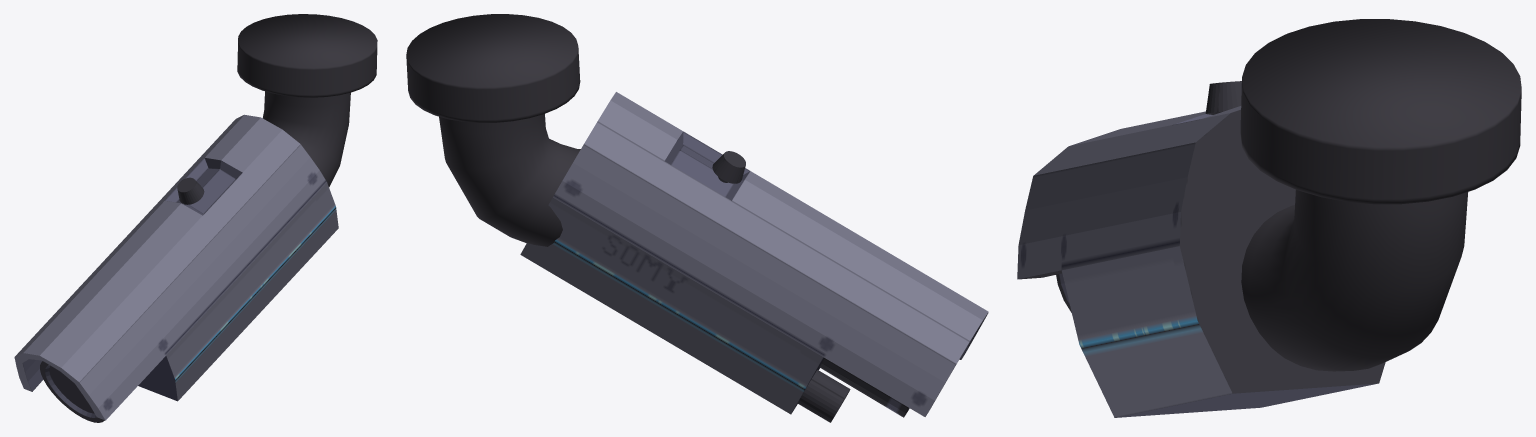
Rendered from Camera.fbx.
The picture shows the model from 3 angles, left to right: view 1: azimuth 30°, elevation 25°; view 2: azimuth 150°, elevation 25°; view 3: azimuth 270°, elevation 25°; orthographic projection. The views are drawn at different scales.
Parts seen in each view (by area): view 1: Cube.003, Cylinder.002; view 2: Cube.003, Cylinder.002; view 3: Cylinder.002, Cube.003.
Part boxes in pixels (left/top/right/bottom): Cube.003: left=14, top=114, right=338, bottom=422; Cylinder.002: left=235, top=14, right=377, bottom=187; Cube.003: left=520, top=92, right=988, bottom=422; Cylinder.002: left=406, top=14, right=580, bottom=246; Cylinder.002: left=1240, top=19, right=1521, bottom=371; Cube.003: left=1017, top=81, right=1385, bottom=417.
Size of the model in its own units: 49.64 by 32.67 by 27.32.
3 materials, 1 textured.
